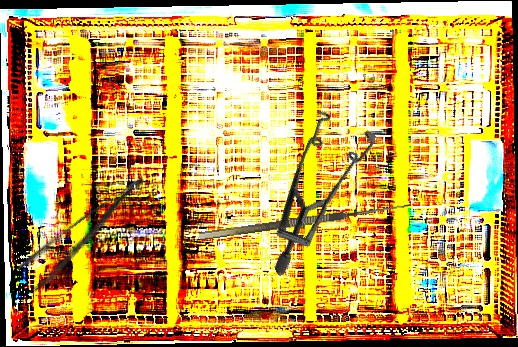Dressing Forceps: (14, 173, 161, 294)
Hook Surgical: (197, 191, 412, 241)
Speculum: (216, 92, 412, 277)
